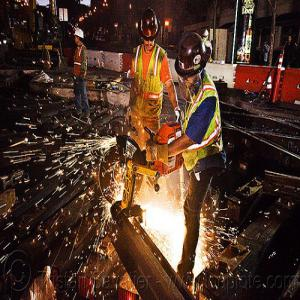red: (177, 33, 209, 93), (140, 8, 160, 49)
white: (74, 30, 85, 46)
